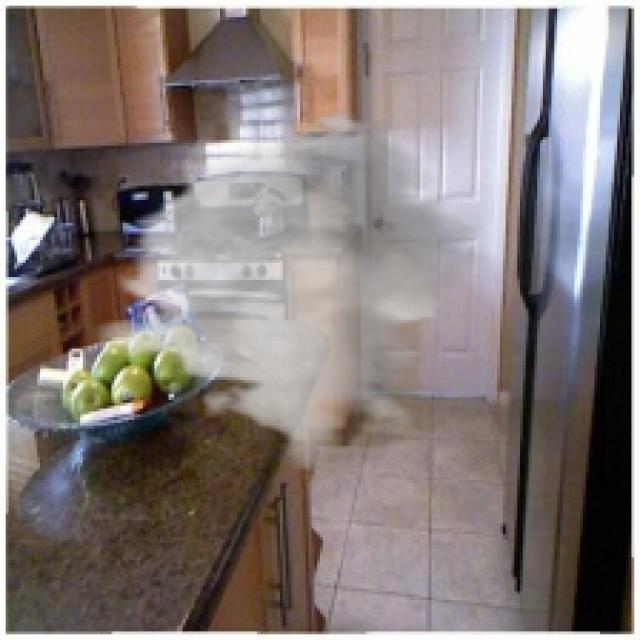Smoke: (89, 108, 488, 474)
